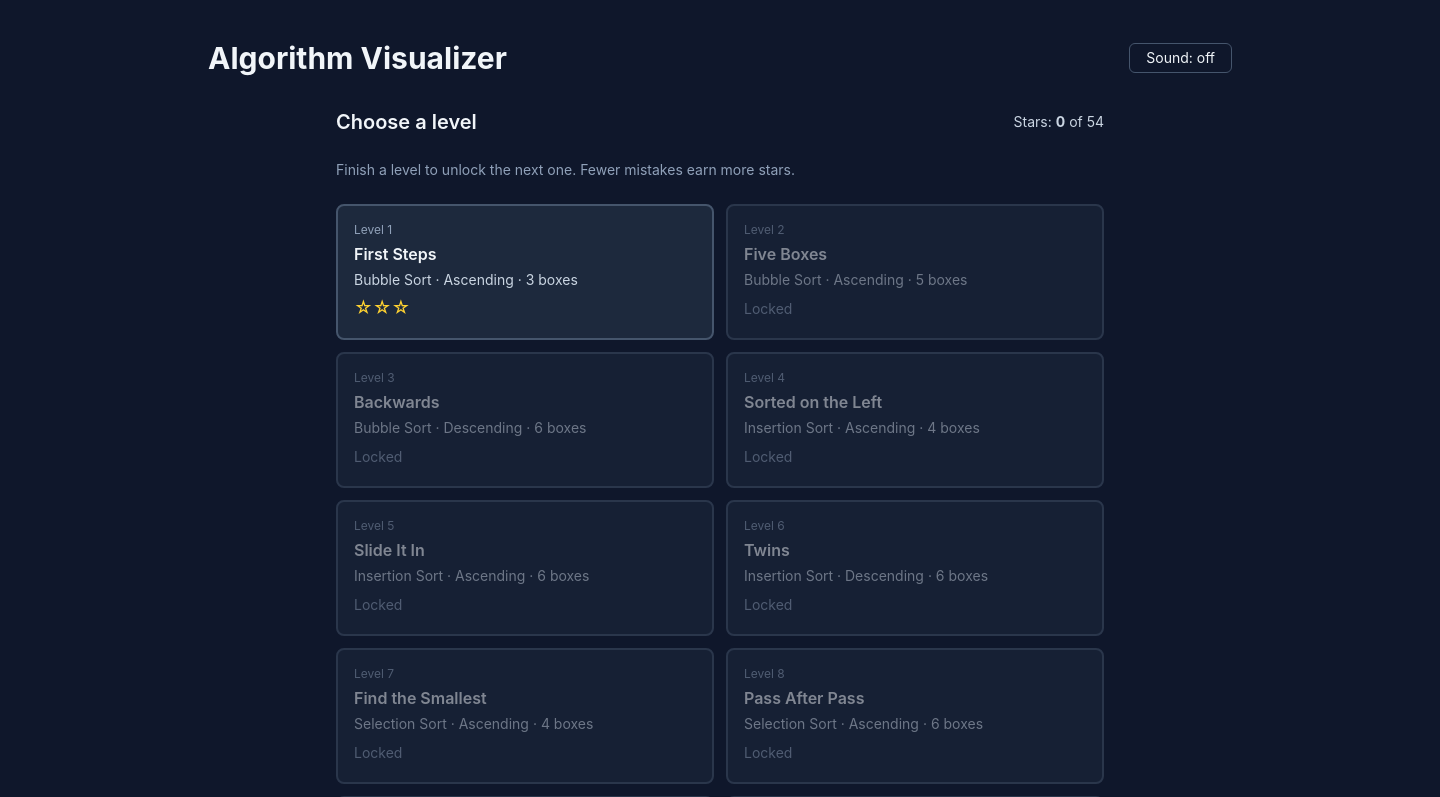
App › the map remembers the stars and unlocks level 2
This screenshot has width=1440, height=797.
What coordinates should you click on to do the following:
click the button with aria-label "Level 1:"
I would click on:
 (525, 272)
Its box is [336, 204, 714, 340].
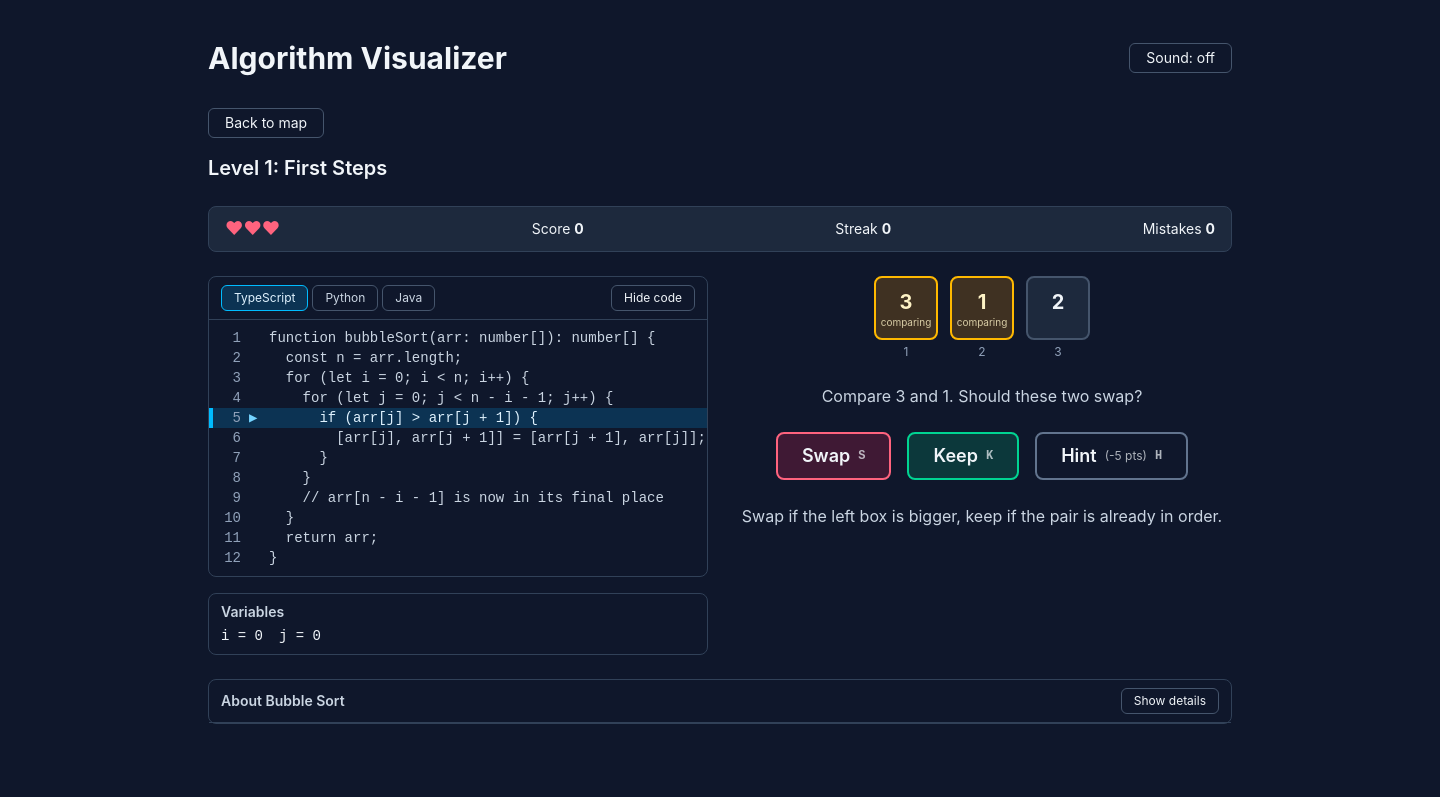
What coordinates should you click on to do the following:
click the button "Swap S"
I would click on:
 (834, 456)
Its box is [776, 432, 892, 480].
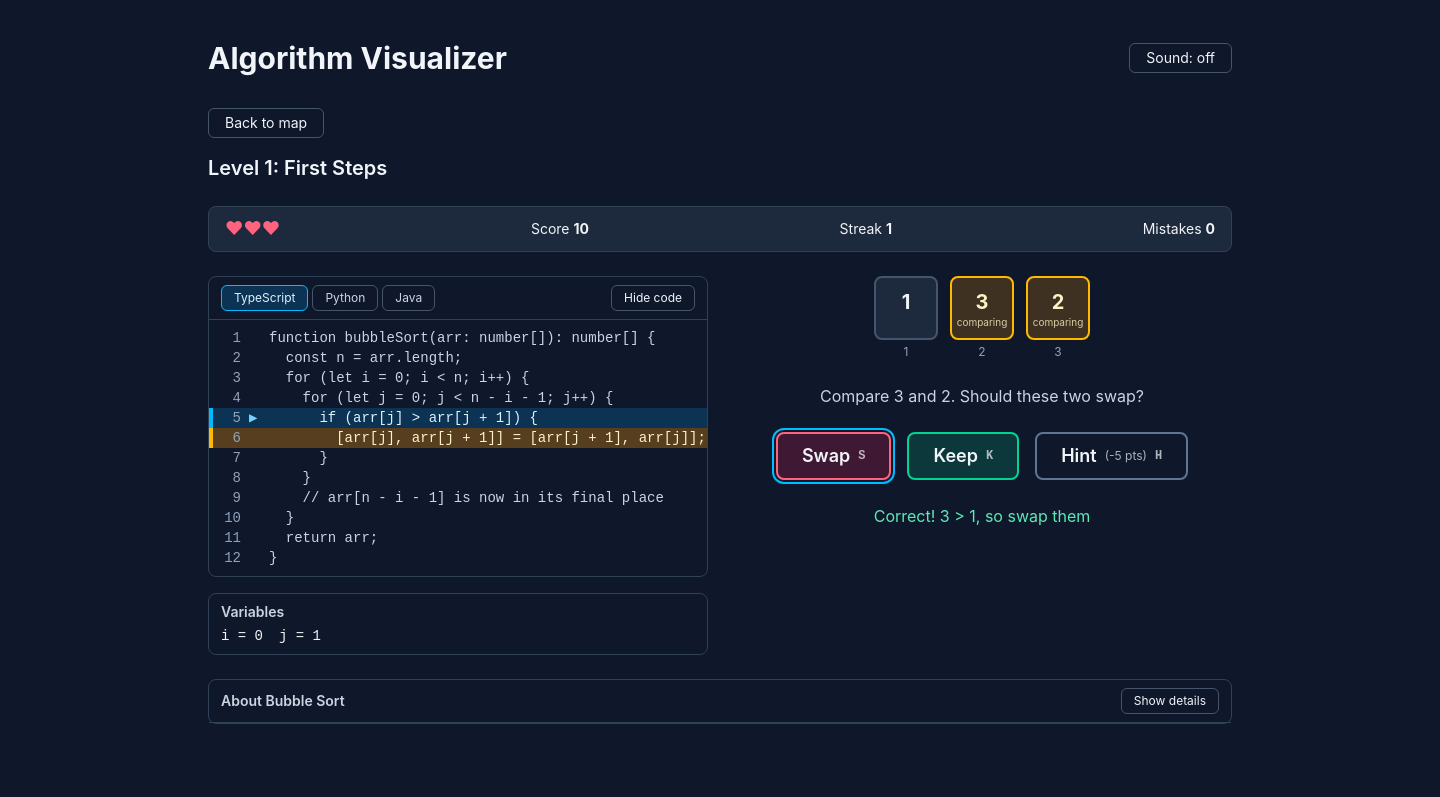
What coordinates should you click on to do the following:
click the button "Swap S"
I would click on:
 (834, 456)
Its box is [776, 432, 892, 480].
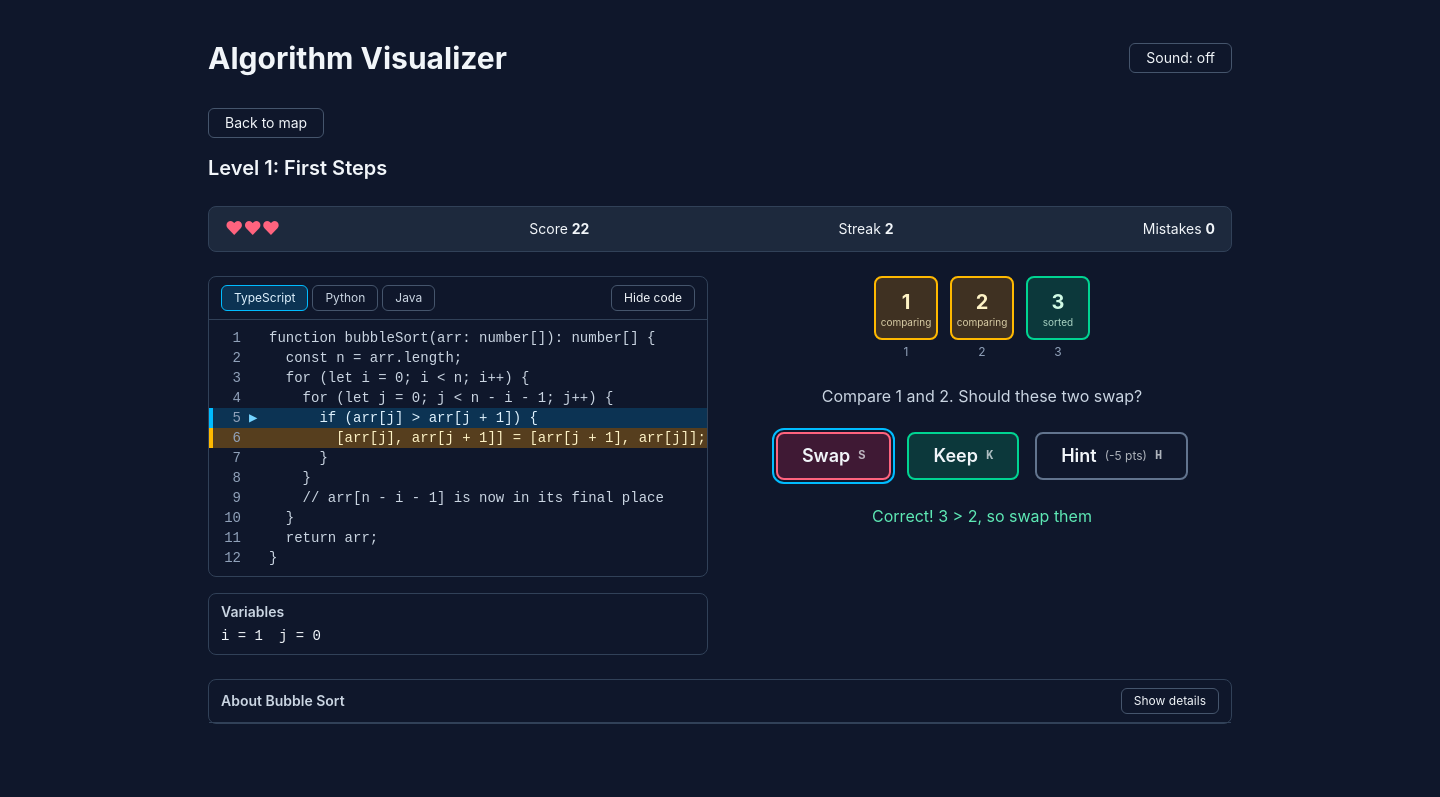
What coordinates should you click on to do the following:
click the button "Keep K"
I would click on:
 (963, 456)
Its box is [908, 432, 1019, 480].
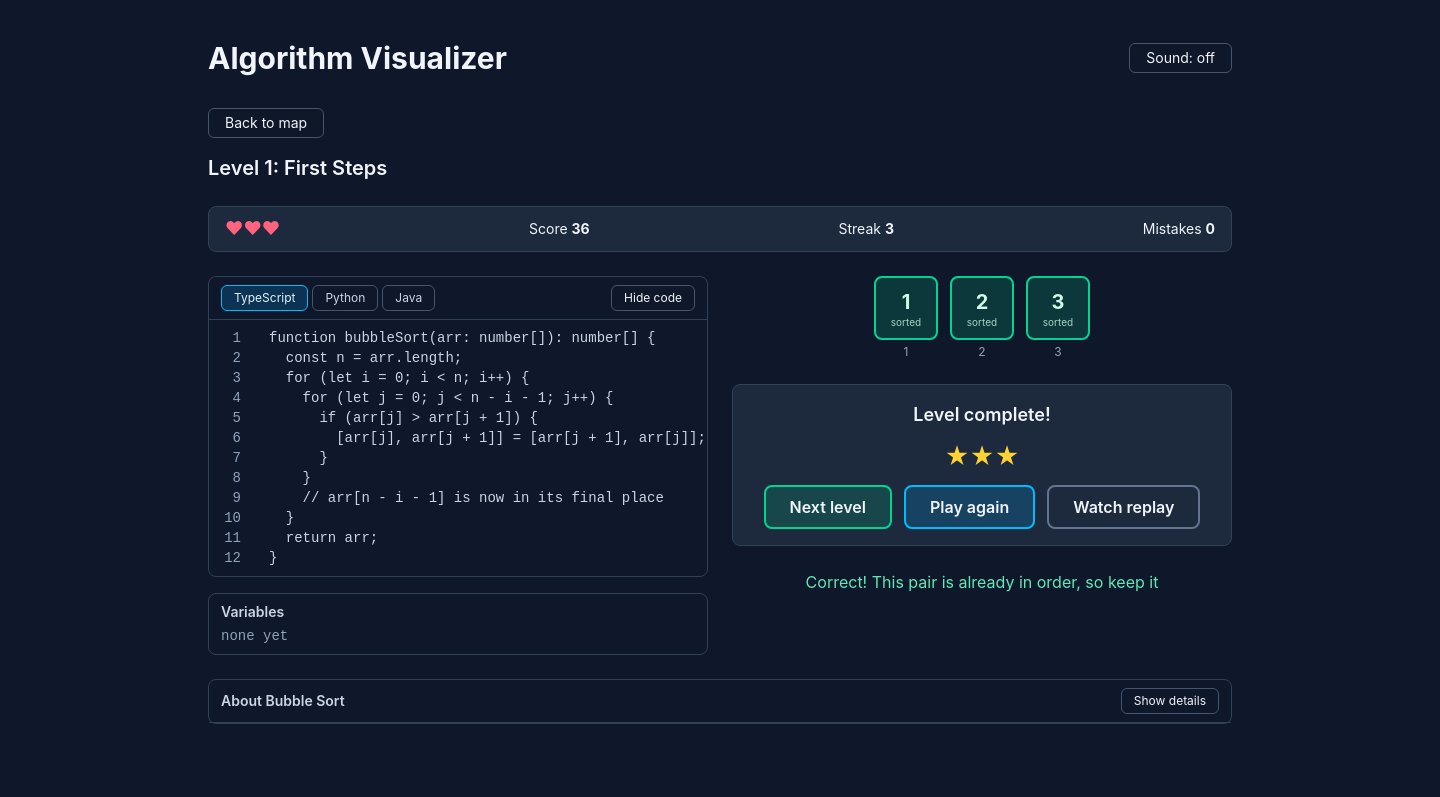
What coordinates should you click on to do the following:
click the button "Back to map"
I would click on:
 (266, 123)
Its box is [208, 108, 324, 138].
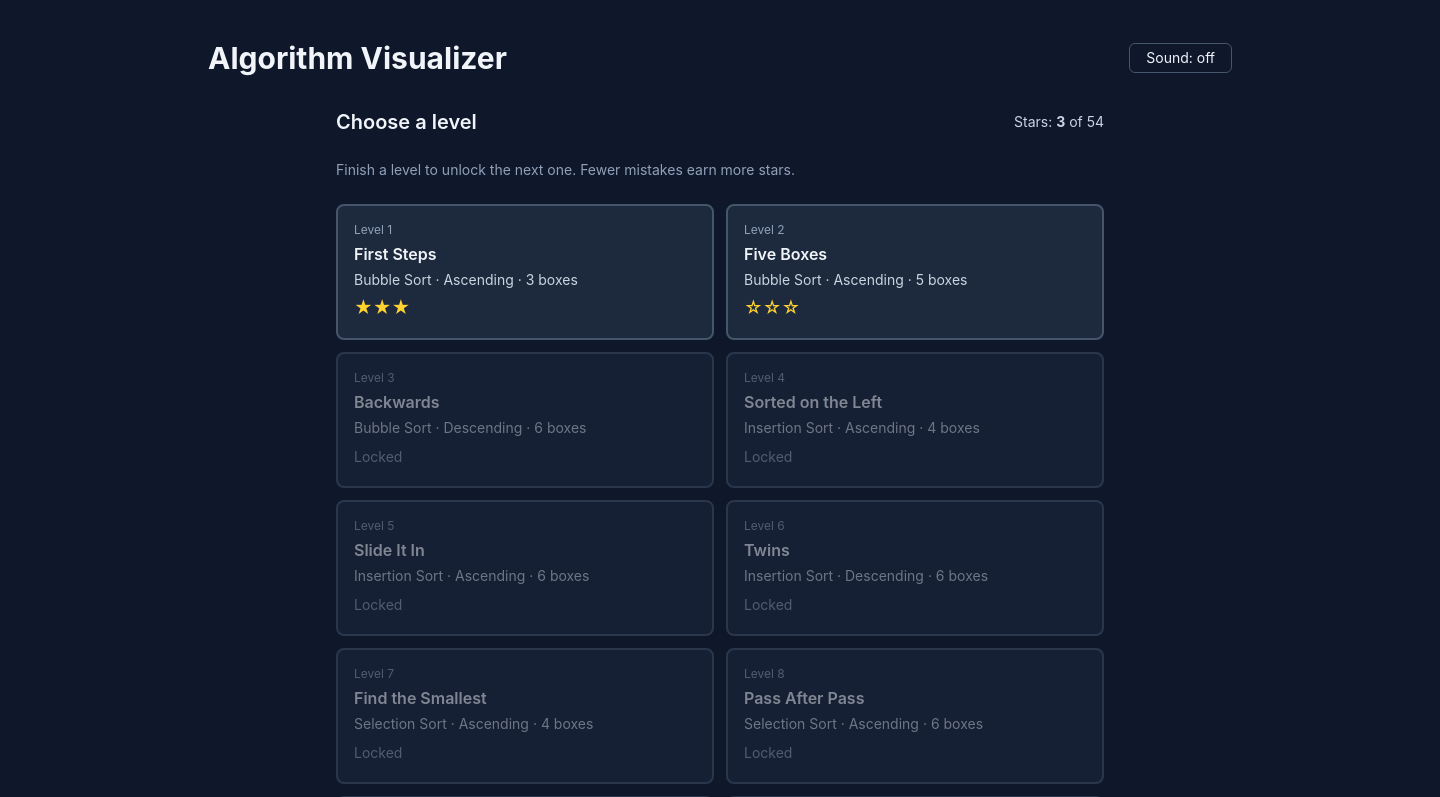
Now the button with aria-label "Level 1: First Steps, 3 of 3 stars" is shown, box [336, 204, 714, 340]
Now the button with aria-label "Level 2:" is enabled, box [726, 204, 1104, 340]
